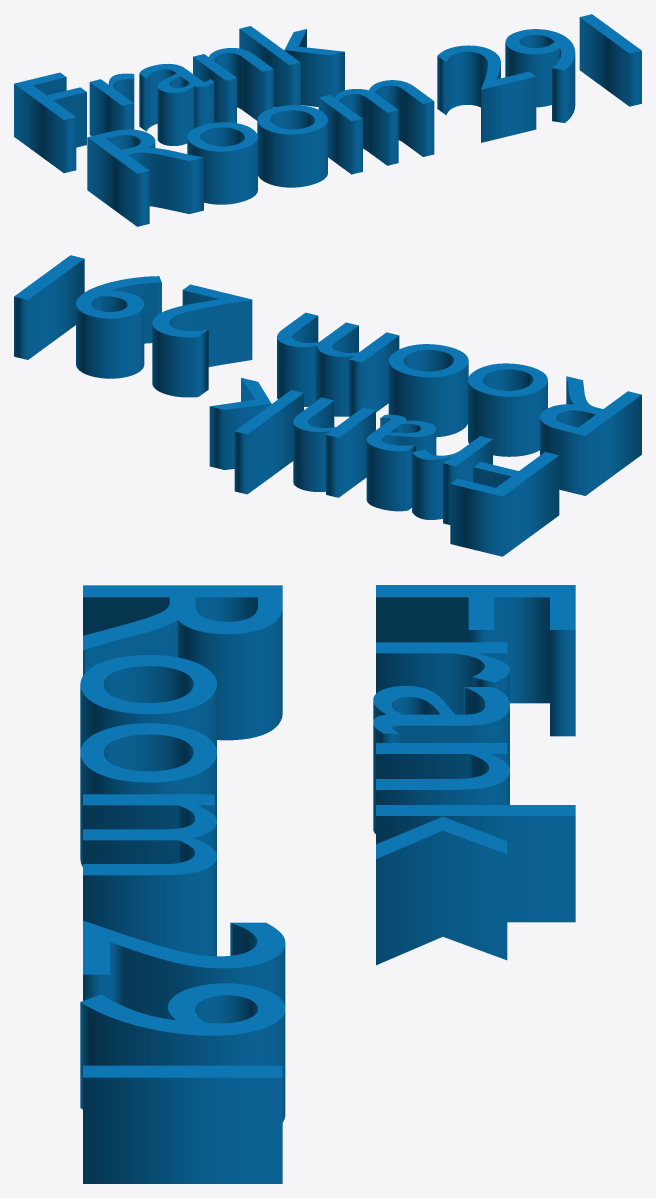
Rendered from frank-291.gltf.
3 views of the same model, one above another, from view 1: azimuth 30°, elevation 25°; view 2: azimuth 150°, elevation 25°; view 3: azimuth 270°, elevation 25° (orthographic). The views are drawn at different scales.
Parts seen in each view (by area): view 1: Text; view 2: Text; view 3: Text.
Part boxes in pixels (left/top/right/bottom): Text: left=14, top=14, right=641, bottom=226; Text: left=14, top=255, right=641, bottom=556; Text: left=80, top=585, right=575, bottom=1183.
Bounding box in the file's own units: 3.98 × 0.4 × 1.69.
